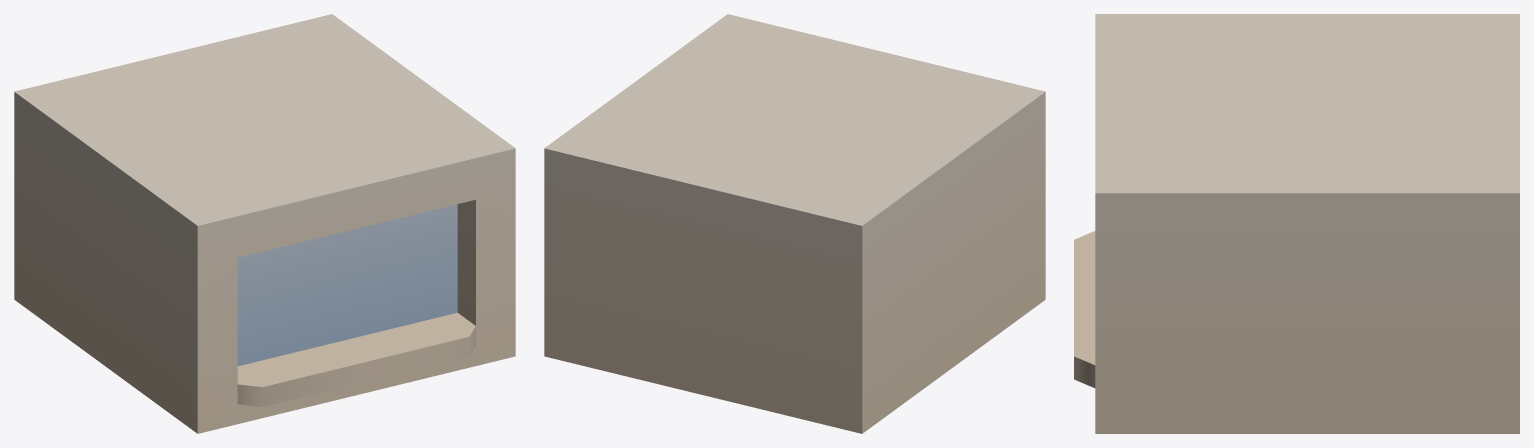
The model's file is building-window-wide-sill.glb.
3 views of the same model, side by side, from view 1: azimuth 30°, elevation 25°; view 2: azimuth 150°, elevation 25°; view 3: azimuth 270°, elevation 25° (orthographic). The views are drawn at different scales.
Visible parts, largest first — view 1: building-window-wide-sill; view 2: building-window-wide-sill; view 3: building-window-wide-sill.
Part boxes in pixels (x1,y1,x2,y2): building-window-wide-sill: [14, 14, 515, 433]; building-window-wide-sill: [544, 14, 1045, 433]; building-window-wide-sill: [1074, 14, 1519, 433].
Size of the model in its own units: 1 by 0.625 by 1.05.
